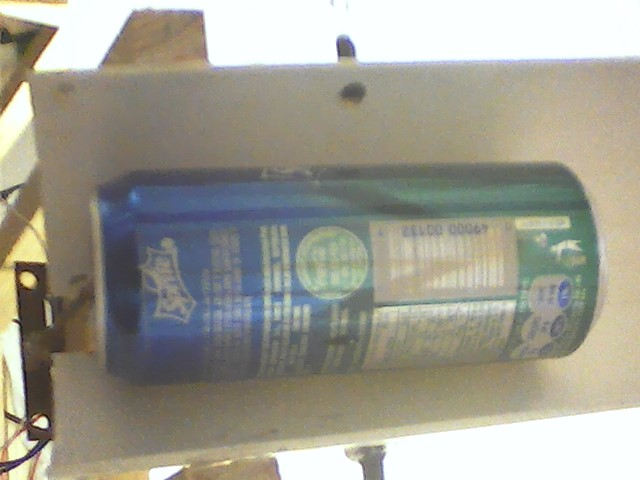lata: (82, 159, 614, 394)
